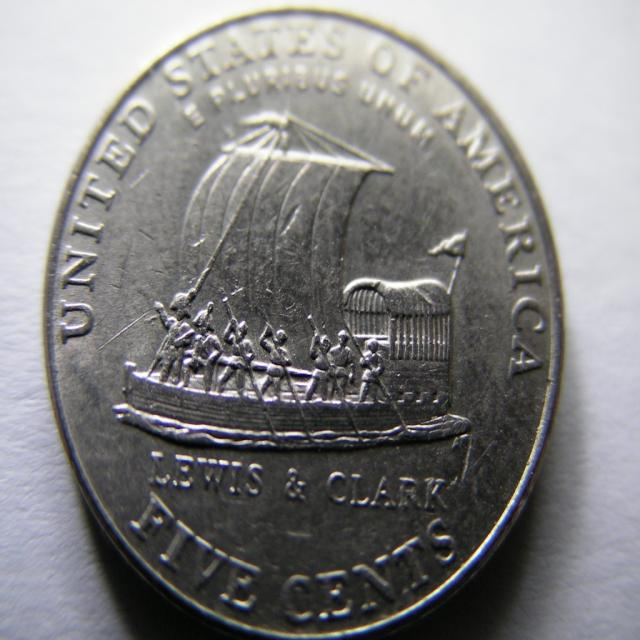Coin: (44, 7, 562, 637)
